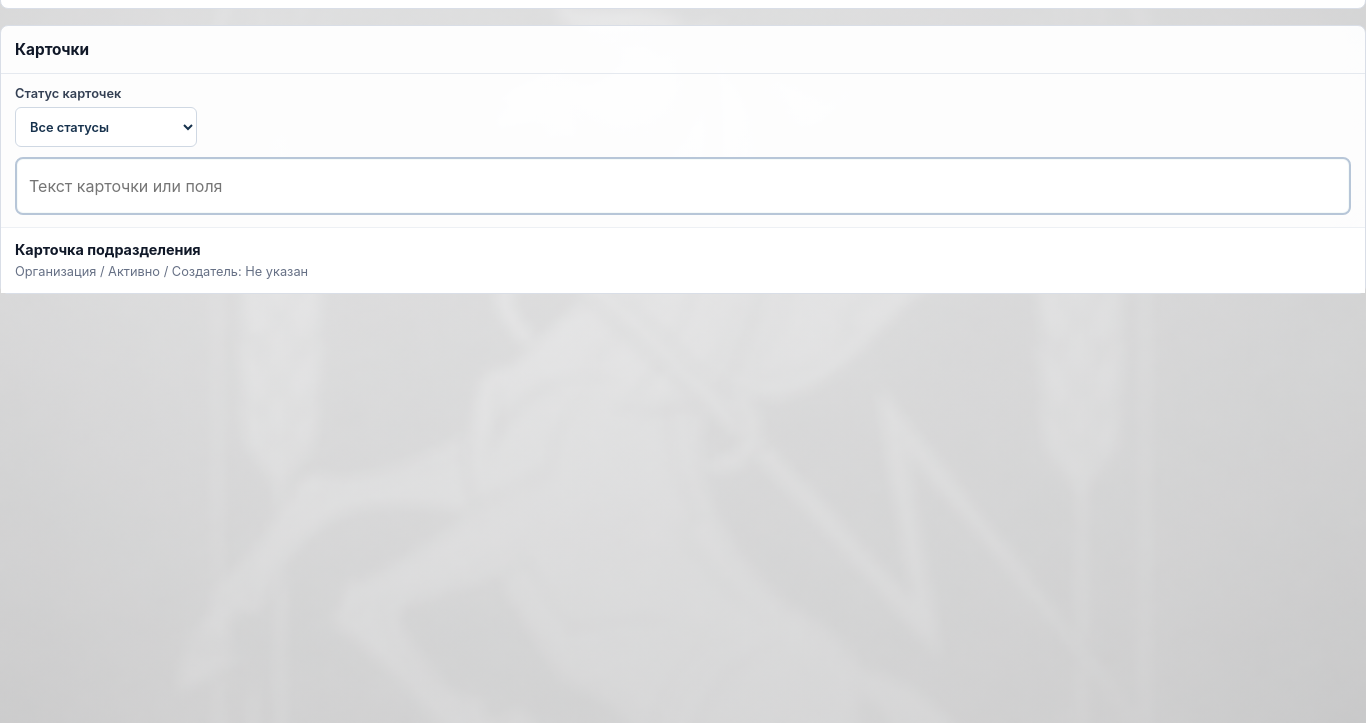
Test: CardsWorkspace › keeps the archive dialog and basis available after a rejected archive
Double-click the button "Карточка подразделения" at [108, 250], box [1, 228, 1365, 293]
(page scrolled)
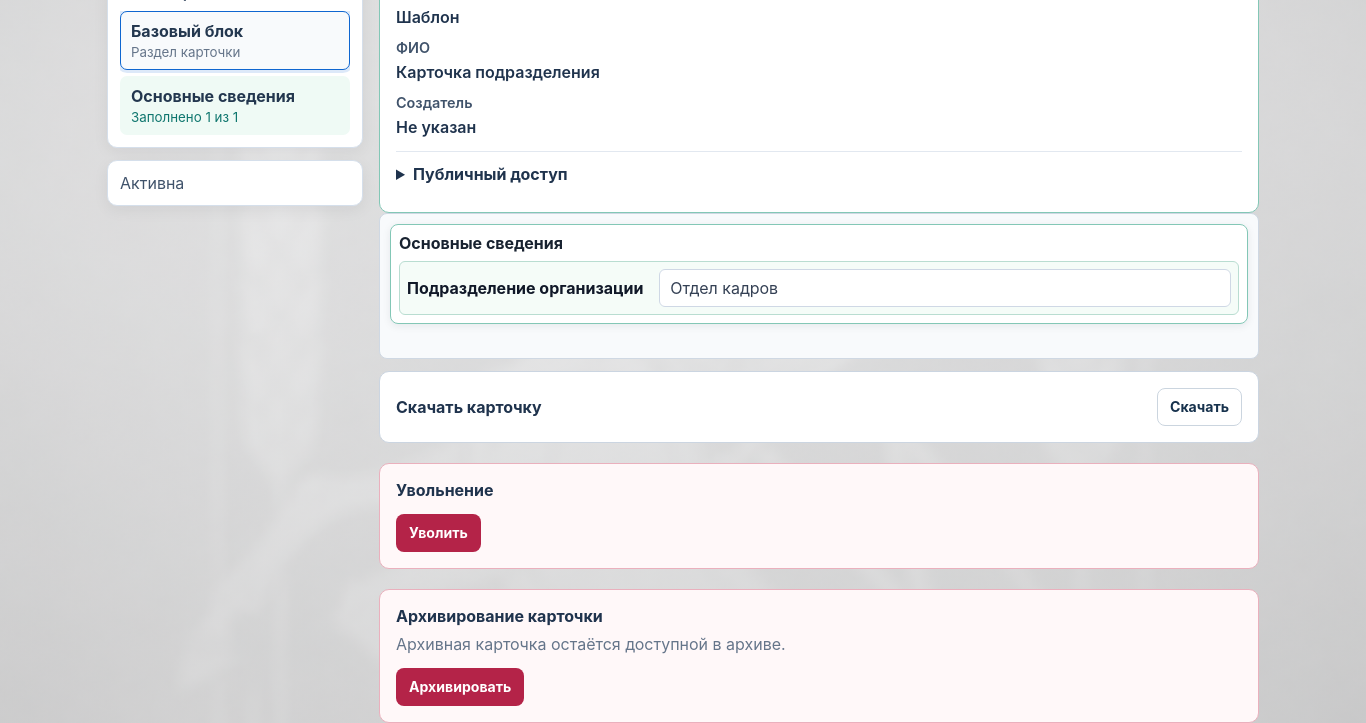
Click the button with aria-label "Архивировать карточку" at [460, 687], box [396, 668, 524, 706]
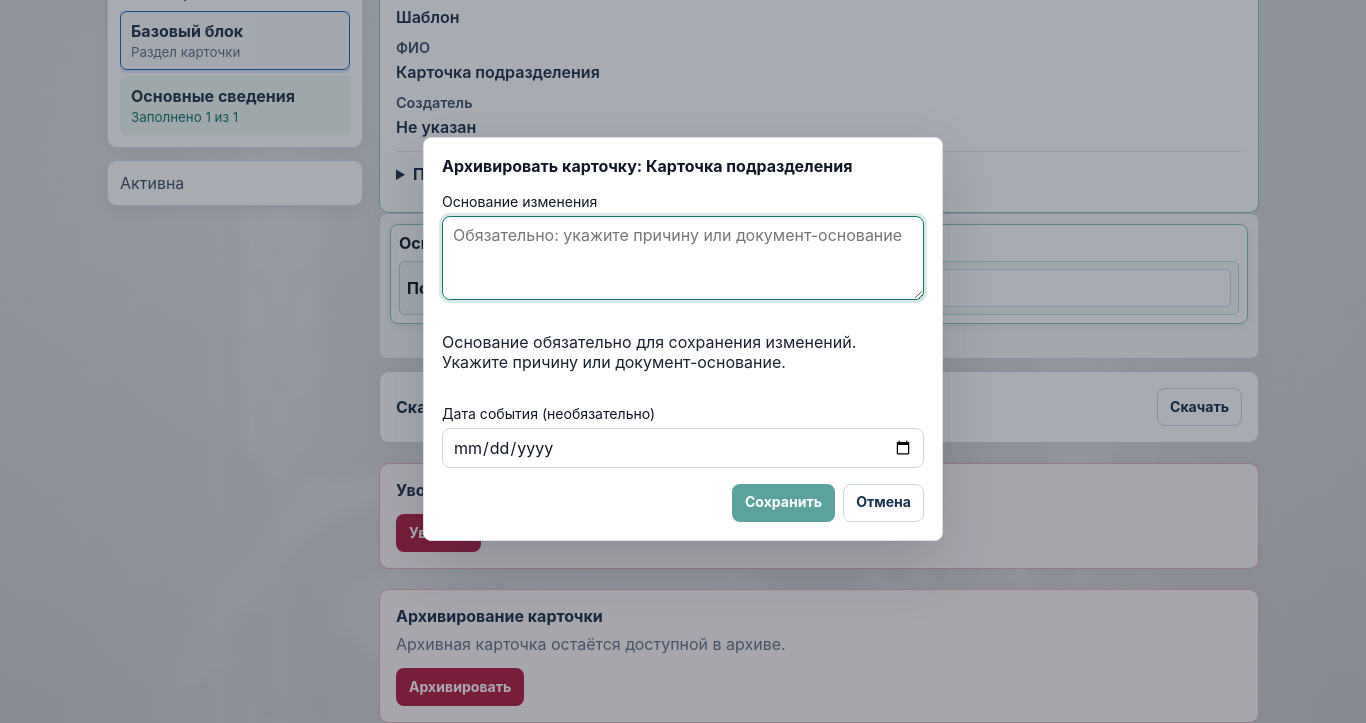
Type "Приказ об архивировании" into the text box labelled "Основание изменения" at [683, 258], box [442, 216, 924, 300]
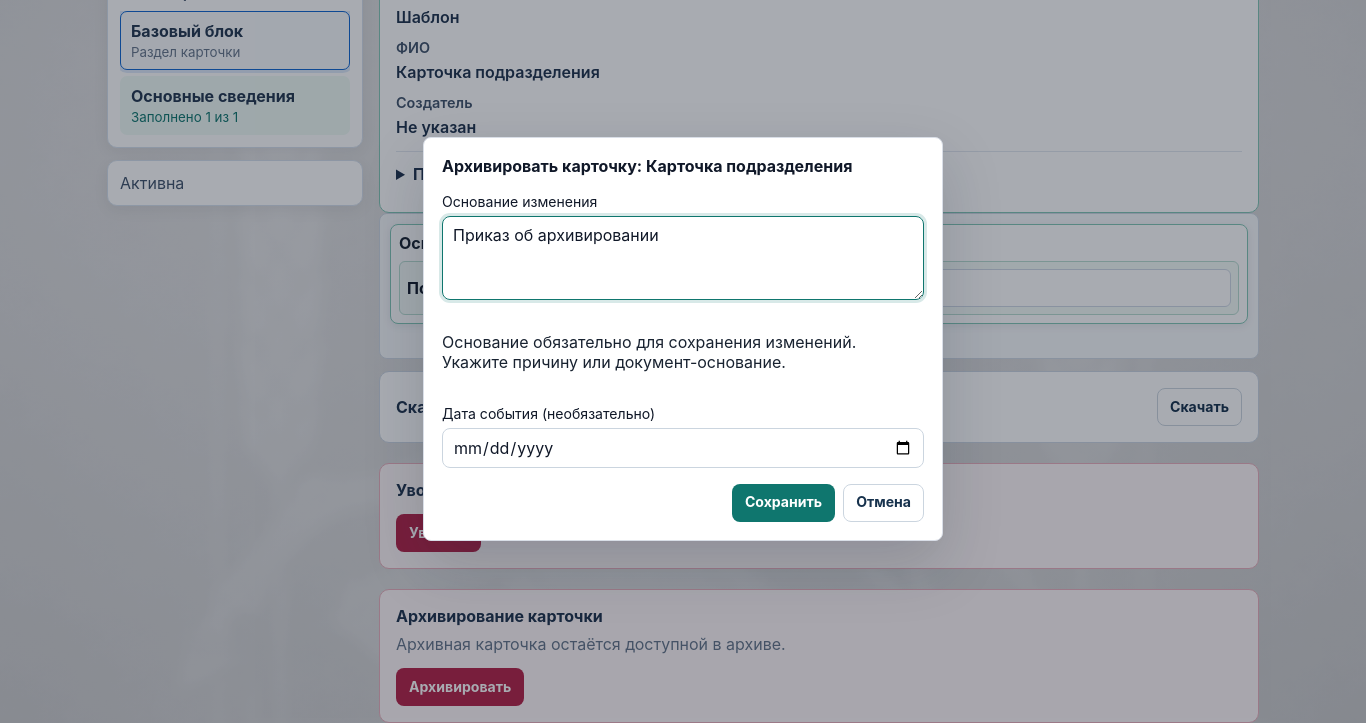
Click the button "Сохранить" at [784, 503], box [732, 484, 835, 522]
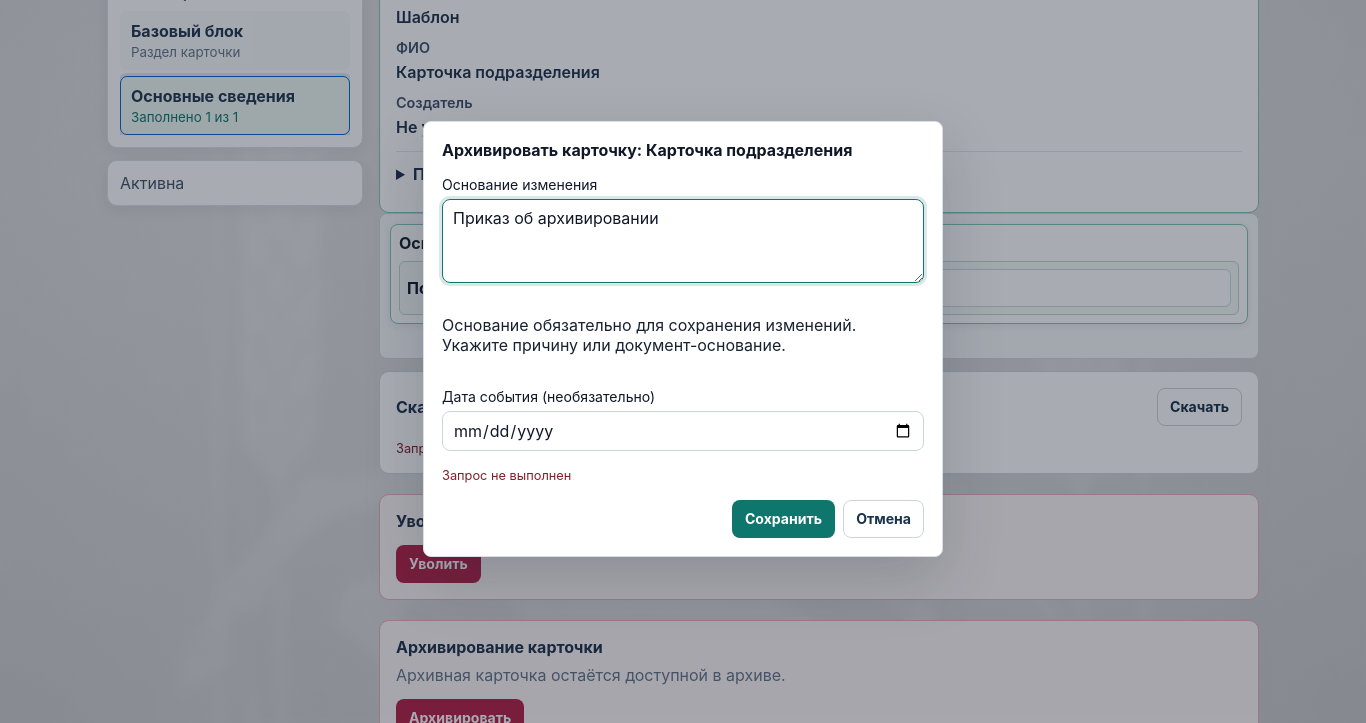
Expected: the button "Сохранить" is enabled, [732, 500, 835, 538]
Expected: the text "Запрос не выполнен" is shown, [442, 468, 571, 483]
